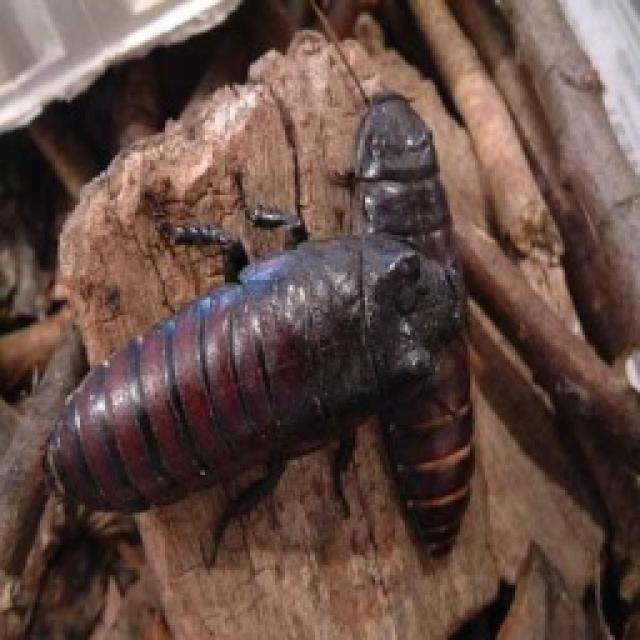cockroach: (43, 87, 483, 569)
